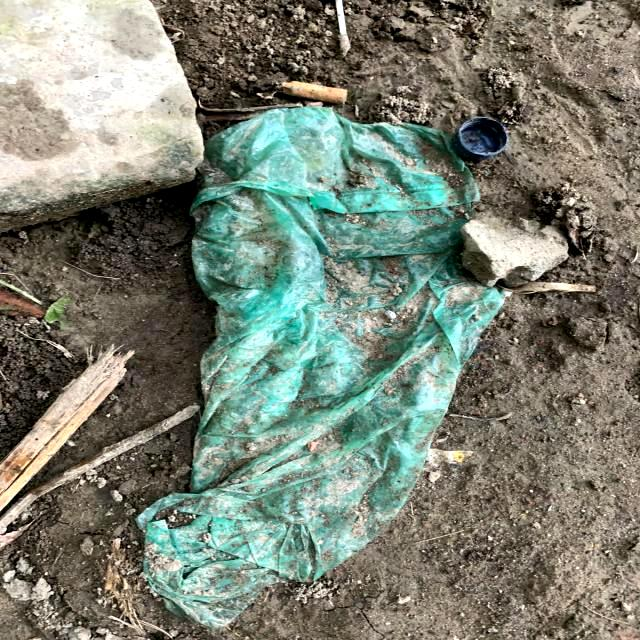polythene: (156, 121, 479, 618)
